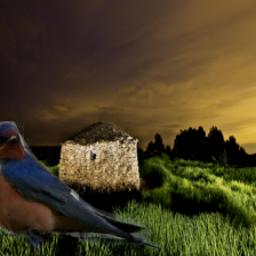Swallow: (0, 121, 162, 250)
